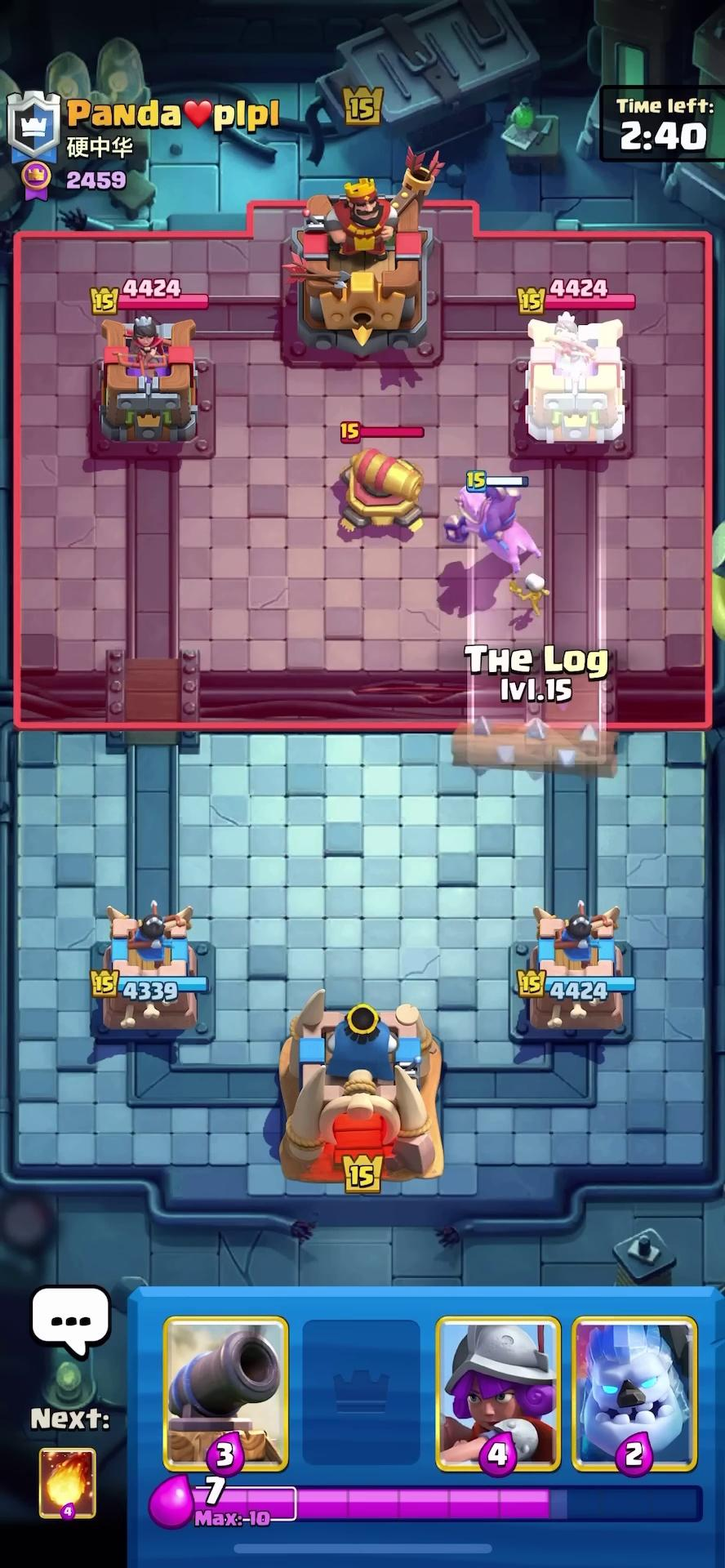hog_rider: (445, 468, 555, 574)
skeletons: (510, 561, 561, 619)
